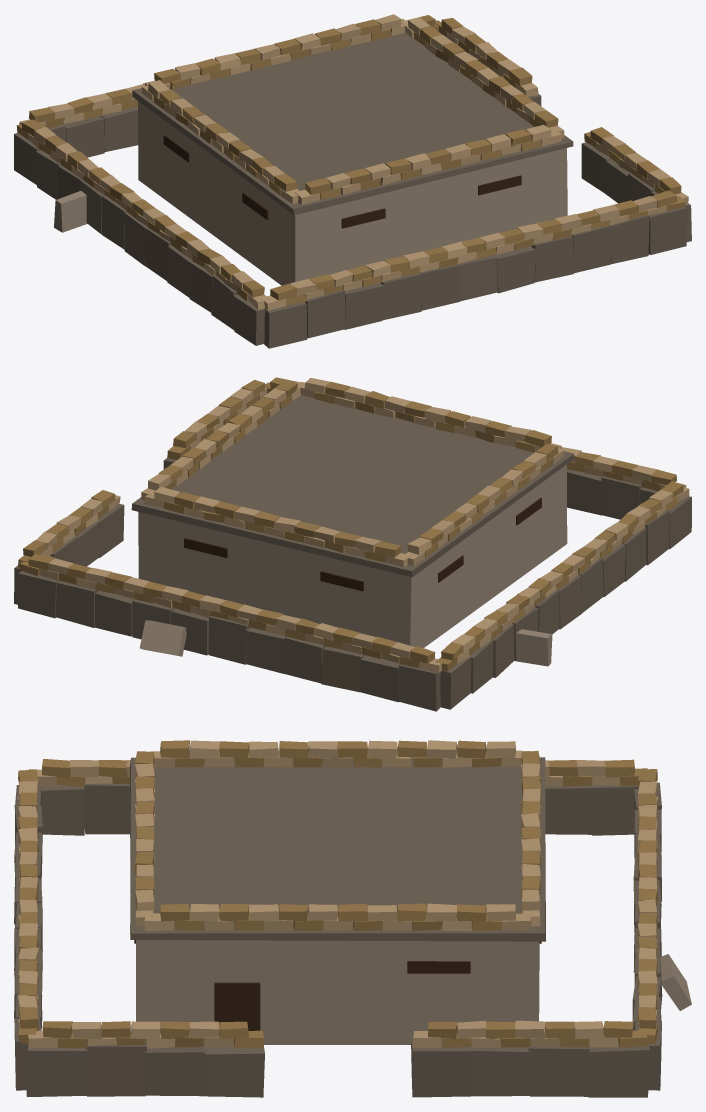
The model's file is bunker.glb.
3 renders of one model, top to bottom at view 1: azimuth 30°, elevation 25°; view 2: azimuth 150°, elevation 25°; view 3: azimuth 270°, elevation 25°, orthographic. The views are drawn at different scales.
Visible parts, largest first — view 1: bunker; view 2: bunker; view 3: bunker.
Boxes of the visible parts, bbox=[...] form: bunker: bbox=[14, 14, 691, 348]; bunker: bbox=[14, 377, 691, 711]; bunker: bbox=[14, 740, 691, 1097].
Size of the model in its own units: 23.98 by 5.28 by 23.54.
